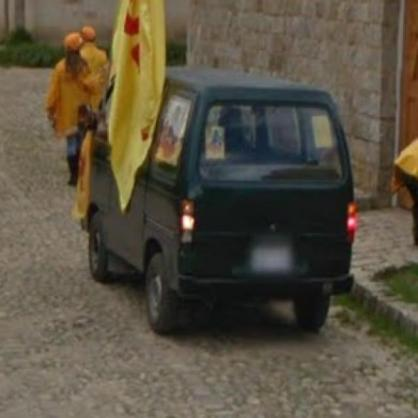car: (77, 70, 354, 339)
